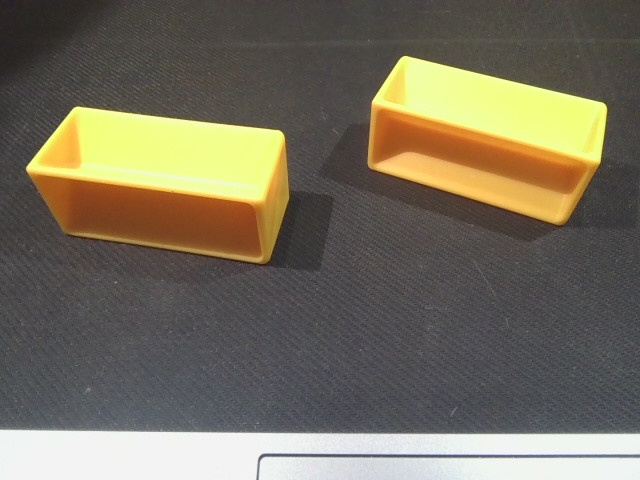YellowSample: (21, 100, 298, 270), (361, 51, 613, 232)
